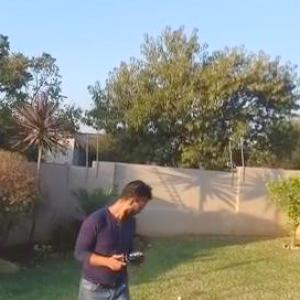follow: (69, 175, 156, 299)
